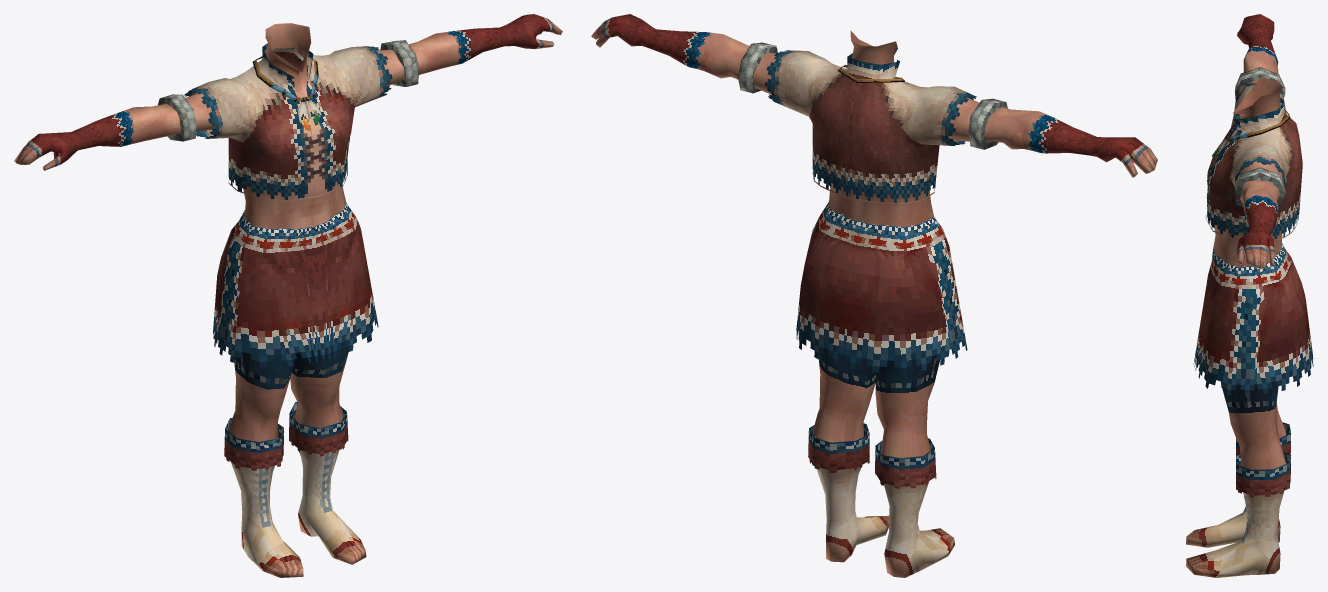
The model's file is m_body031.obj.
3 renders of one model, left to right at view 1: azimuth 30°, elevation 25°; view 2: azimuth 150°, elevation 25°; view 3: azimuth 270°, elevation 25°, orthographic. The views are drawn at different scales.
Visible parts, largest first — view 1: editpl_m-0000-20, editpl_m-0000-19, editpl_m-0000-18; view 2: editpl_m-0000-20, editpl_m-0000-19, editpl_m-0000-18; view 3: editpl_m-0000-20, editpl_m-0000-19, editpl_m-0000-18.
Part boxes in pixels (box(x1,y1,x2,y2)): editpl_m-0000-20: box(213, 203, 378, 577); editpl_m-0000-19: box(184, 23, 404, 229); editpl_m-0000-18: box(14, 14, 562, 170); editpl_m-0000-20: box(796, 202, 967, 577); editpl_m-0000-19: box(753, 30, 979, 227); editpl_m-0000-18: box(591, 14, 1157, 177); editpl_m-0000-20: box(1186, 243, 1313, 577); editpl_m-0000-19: box(1205, 77, 1302, 267); editpl_m-0000-18: box(1235, 14, 1285, 268).
Bounding box in the file's own units: 177 × 159 × 39.25.
3 materials, 3 textured.
